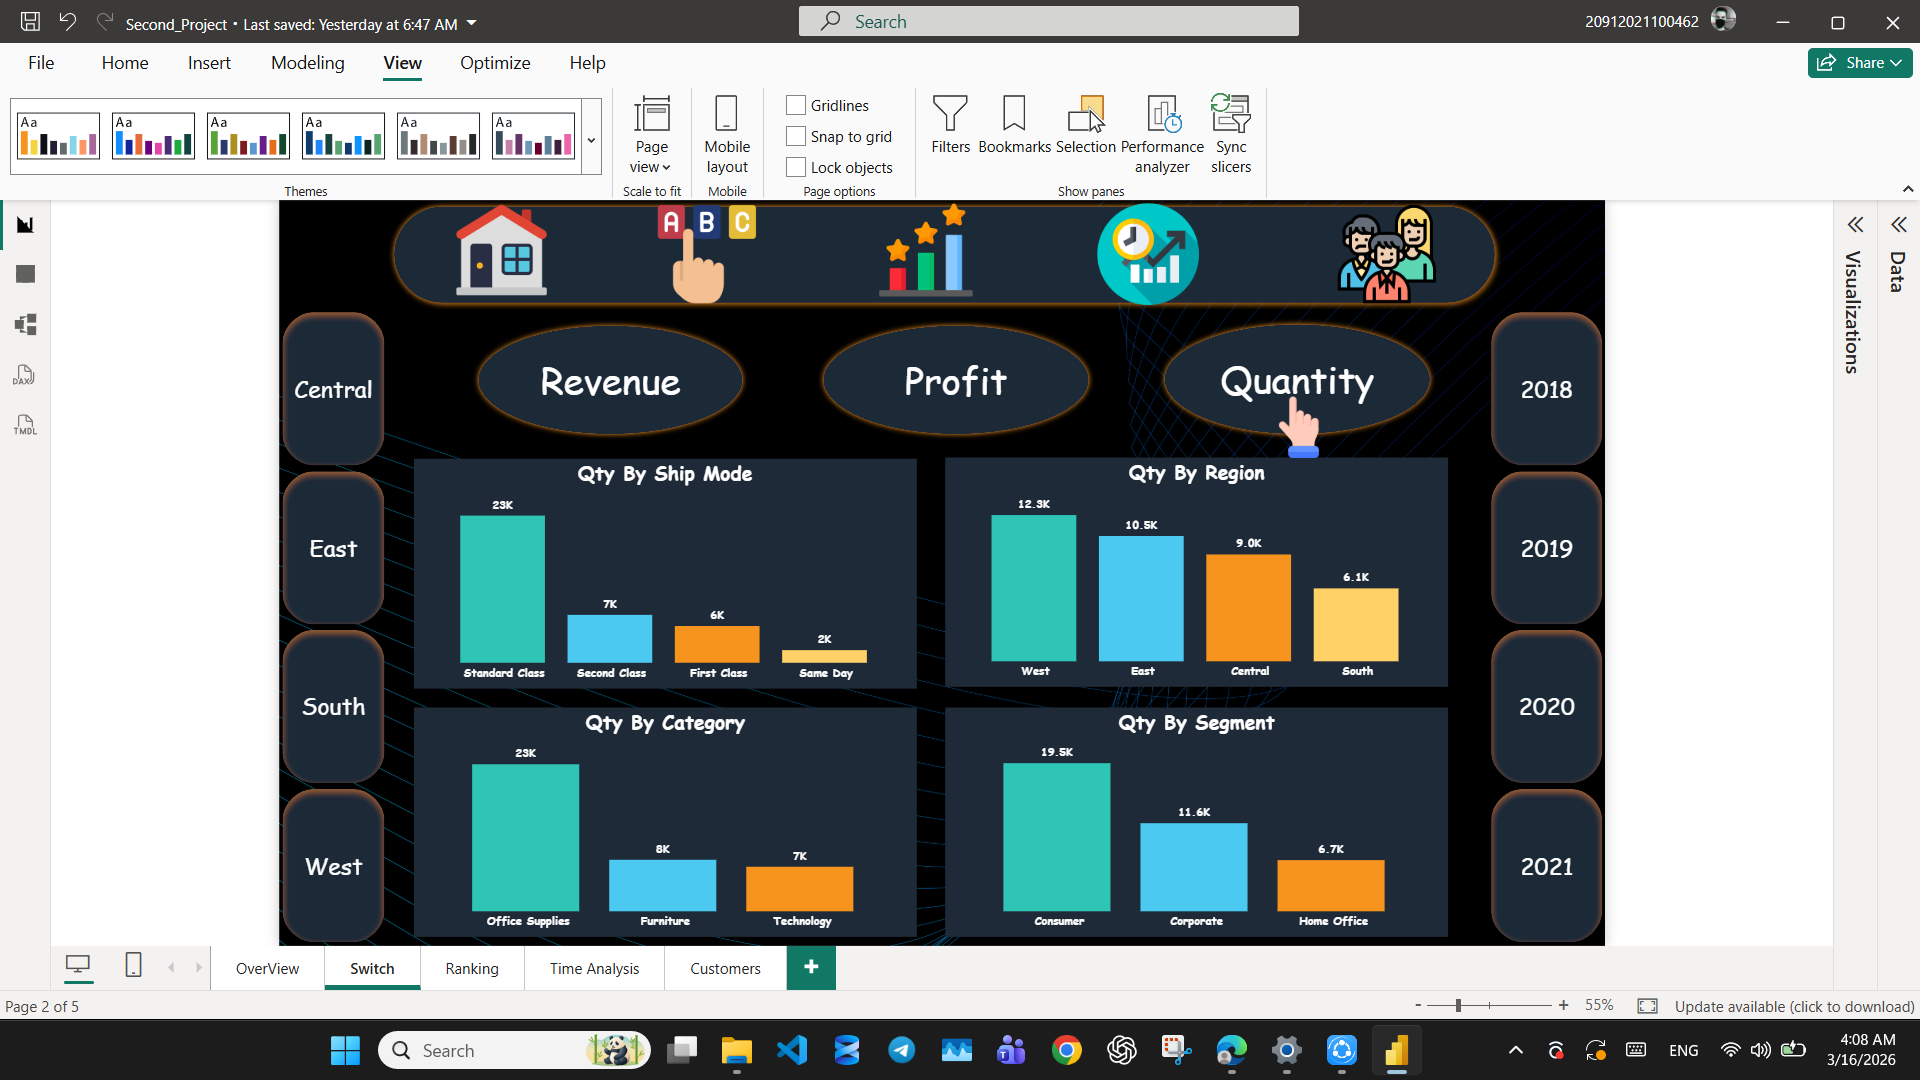

What the dashboard file says about the page in this screenshot:
{"tool":"powerbi","page":{"name":"Switch","canvas":[1920,1080],"ordinal":1},"visuals":[{"type":"shape","box":[158,0,1762,158],"z":0},{"type":"actionButton","title":"Button_qty","box":[1416,174,402,174],"z":2000},{"type":"actionButton","title":"Button_profit","box":[840,176,400,172],"z":3000},{"type":"actionButton","title":"Button_rev","box":[280.7,173.4,398.7,173.4],"z":4000},{"type":"clusteredColumnChart","title":"Qty By Ship Mode","fields":{"Category":["Dim_Order.Ship Mode"],"Y":["Dax.Total_Quantity"]},"box":[194,374,822,332],"z":9000},{"type":"clusteredColumnChart","title":"Qty By Region","fields":{"Category":["Dim_Customer.Region"],"Y":["Dax.Total_Quantity"]},"box":[1038,374,852,332],"z":11000},{"type":"clusteredColumnChart","title":"Qty By Category","fields":{"Category":["Dim_Product.Category"],"Y":["Dax.Total_Quantity"]},"box":[196,734,820,332],"z":13000},{"type":"clusteredColumnChart","title":"Qty By Segment","fields":{"Category":["Dim_Order.Segment"],"Y":["Dax.Total_Quantity"]},"box":[1038,748,852,332],"z":15000},{"type":"image","title":"Image_qty","box":[1564,246,120,204],"z":17000},{"type":"image","box":[230.7,0,184.2,144.8],"z":19000},{"type":"image","box":[606,2,158,158],"z":20000},{"type":"image","box":[1704,0,156,158],"z":21000},{"type":"image","box":[960,2,158,144],"z":22000},{"type":"image","box":[1310,2,158,158],"z":23000},{"type":"advancedSlicerVisual","fields":{"Values":["Dim_Customer.Region"]},"box":[0,160,158.3,406.7],"z":24000},{"type":"advancedSlicerVisual","fields":{"Values":["Calendar_Table.Year"]},"box":[0,585.7,158.6,494.3],"z":25000}]}

Visuals, with their boxes on the page's 1920x1080 design canvas (x1, y1, x2, y2). These are canvas units, not pixel positions in the 1920x1080 screenshot, which may show the page scaled, cropped or inside an application window:
shape: {"x1": 158, "y1": 0, "x2": 1920, "y2": 158}
"Button_qty" actionButton: {"x1": 1416, "y1": 174, "x2": 1818, "y2": 348}
"Button_profit" actionButton: {"x1": 840, "y1": 176, "x2": 1240, "y2": 348}
"Button_rev" actionButton: {"x1": 281, "y1": 173, "x2": 679, "y2": 347}
"Qty By Ship Mode" clusteredColumnChart: {"x1": 194, "y1": 374, "x2": 1016, "y2": 706}
"Qty By Region" clusteredColumnChart: {"x1": 1038, "y1": 374, "x2": 1890, "y2": 706}
"Qty By Category" clusteredColumnChart: {"x1": 196, "y1": 734, "x2": 1016, "y2": 1066}
"Qty By Segment" clusteredColumnChart: {"x1": 1038, "y1": 748, "x2": 1890, "y2": 1080}
"Image_qty" image: {"x1": 1564, "y1": 246, "x2": 1684, "y2": 450}
image: {"x1": 231, "y1": 0, "x2": 415, "y2": 145}
image: {"x1": 606, "y1": 2, "x2": 764, "y2": 160}
image: {"x1": 1704, "y1": 0, "x2": 1860, "y2": 158}
image: {"x1": 960, "y1": 2, "x2": 1118, "y2": 146}
image: {"x1": 1310, "y1": 2, "x2": 1468, "y2": 160}
advancedSlicerVisual - Dim_Customer.Region: {"x1": 0, "y1": 160, "x2": 158, "y2": 567}
advancedSlicerVisual - Calendar_Table.Year: {"x1": 0, "y1": 586, "x2": 159, "y2": 1080}
